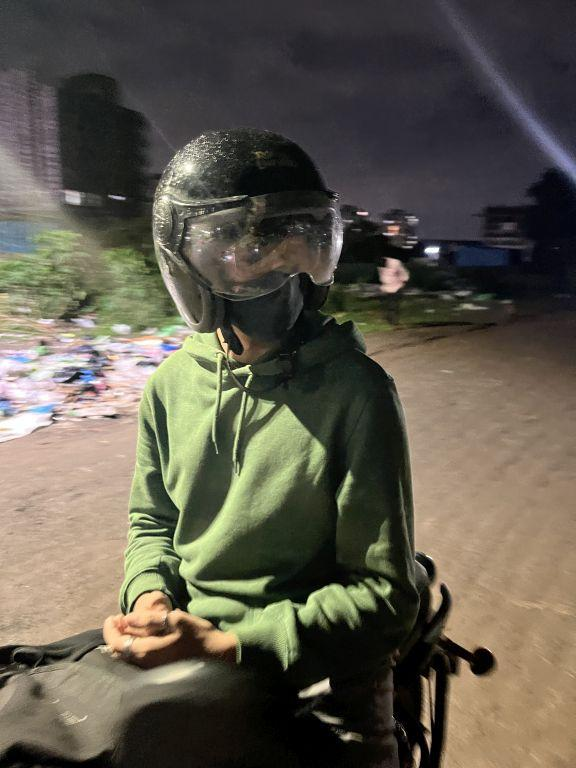helmet: (139, 109, 360, 360)
